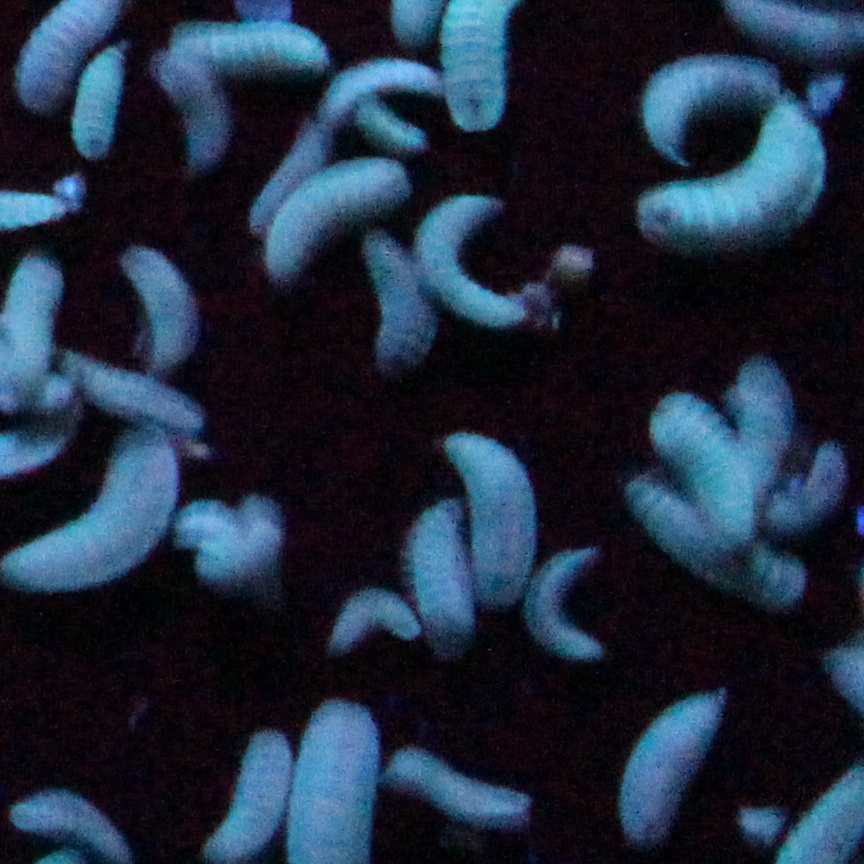larve: (635, 82, 832, 248), (435, 420, 550, 620), (409, 190, 548, 351), (607, 682, 732, 851), (263, 149, 412, 280), (376, 740, 548, 836), (116, 231, 211, 389), (516, 536, 616, 662), (2, 772, 142, 862), (171, 8, 330, 84), (317, 574, 430, 667)
